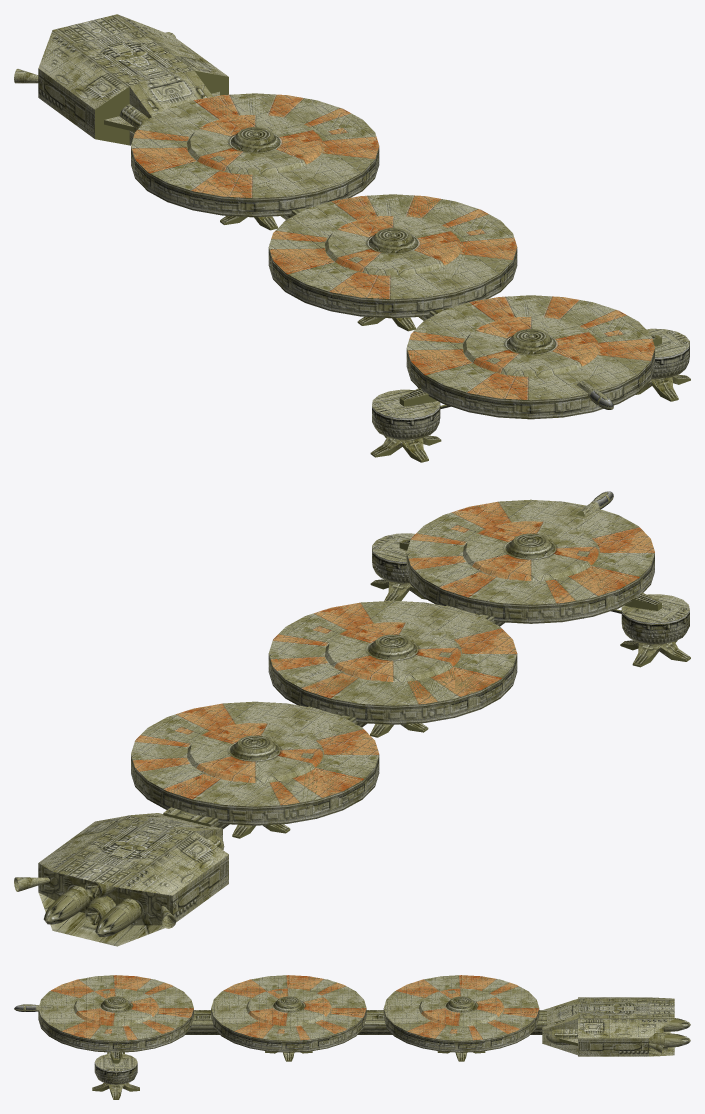
The model's file is Mining Vessel.dae.
3 renders of one model, top to bottom at view 1: azimuth 30°, elevation 25°; view 2: azimuth 150°, elevation 25°; view 3: azimuth 270°, elevation 25°, orthographic. The views are drawn at different scales.
Parts seen in each view (by area): view 1: colminr1co_1 (×14); view 2: colminr1co_1 (×16); view 3: colminr1co_1 (×17).
Part boxes in pixels (bbox=[...]): colminr1co_1 (×14): bbox=[38, 14, 689, 460]; colminr1co_1 (×16): bbox=[38, 499, 690, 946]; colminr1co_1 (×17): bbox=[14, 975, 690, 1098].
Bounding box in the file's own units: 10357 × 30724 × 2542.
